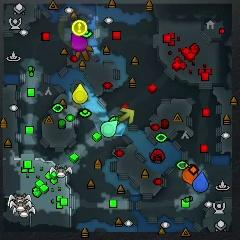Other: (72, 20, 87, 36)
p1: (193, 172, 209, 193)
p2: (100, 120, 118, 137)
p3: (70, 34, 90, 52)
p4: (73, 83, 88, 105)
p5: (182, 169, 199, 184)
x2: (119, 107, 136, 126)
x5: (75, 46, 92, 61)
